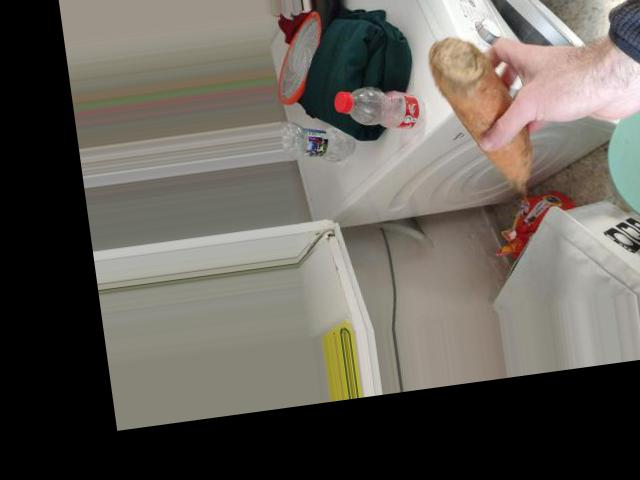sweet_potato: (421, 37, 548, 190)
